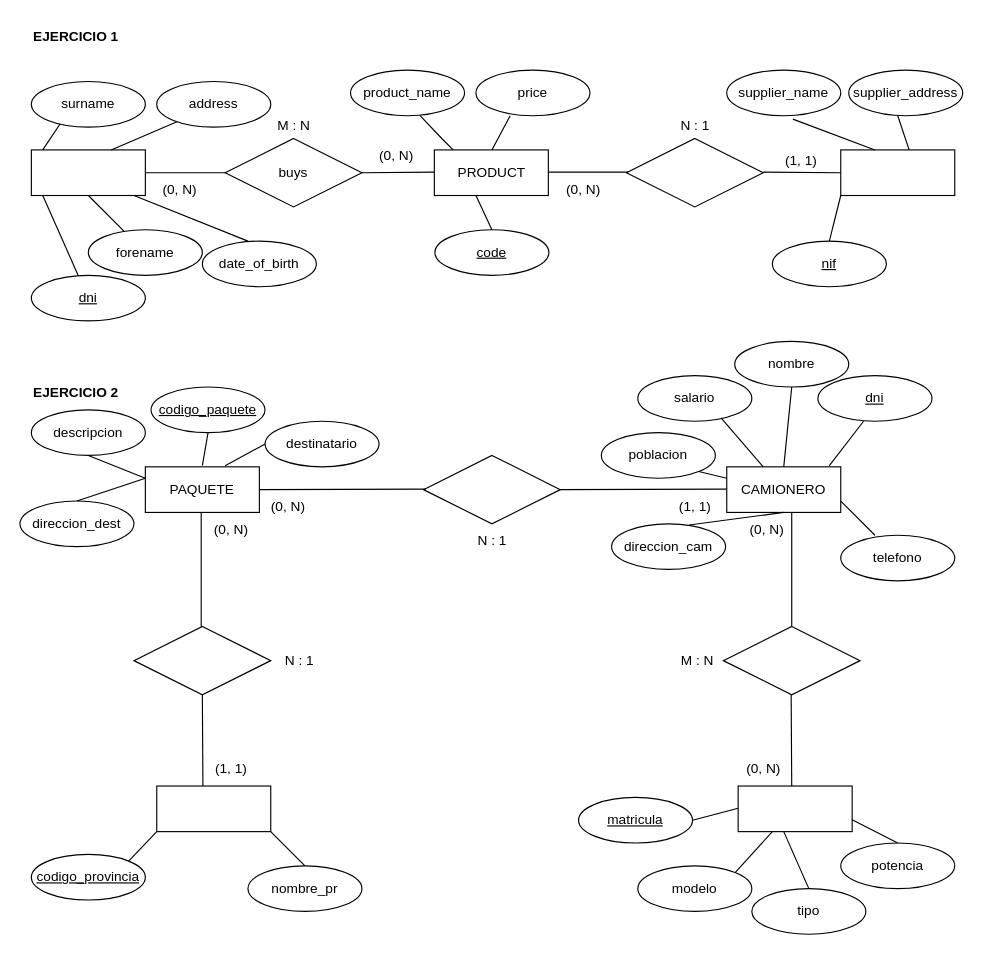
Image size: 983x954. Some labels were removed from this diagram. The centre of each missing label's shape, as x and y in pixels:
"CAMION" belongs at point (794, 808).
"conduce" belongs at point (791, 660).
"CUSTOMER" belongs at point (87, 172).
"gives" belongs at point (694, 172).
"llega a" belongs at point (202, 660).
"PROVINCIA" belongs at point (213, 808).
"reparte" belongs at point (491, 489).
"SUPPLIER" belongs at point (897, 172).
